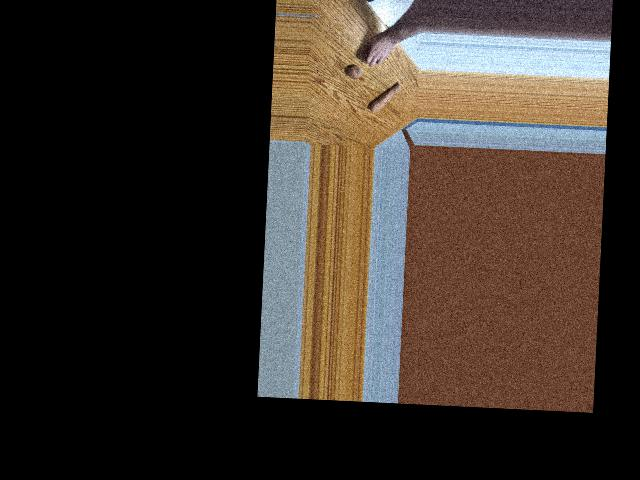onion: (360, 46, 374, 61)
